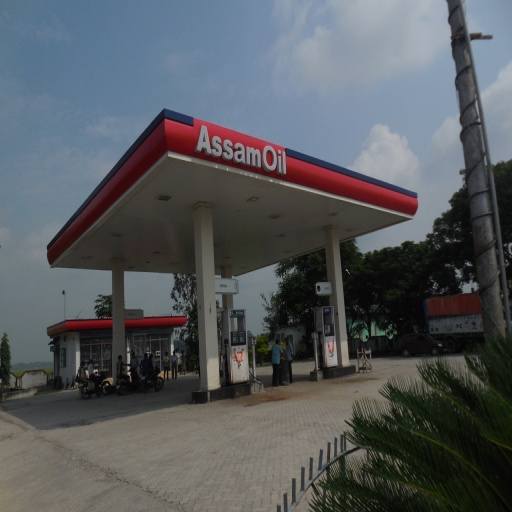roof: (48, 109, 419, 279)
